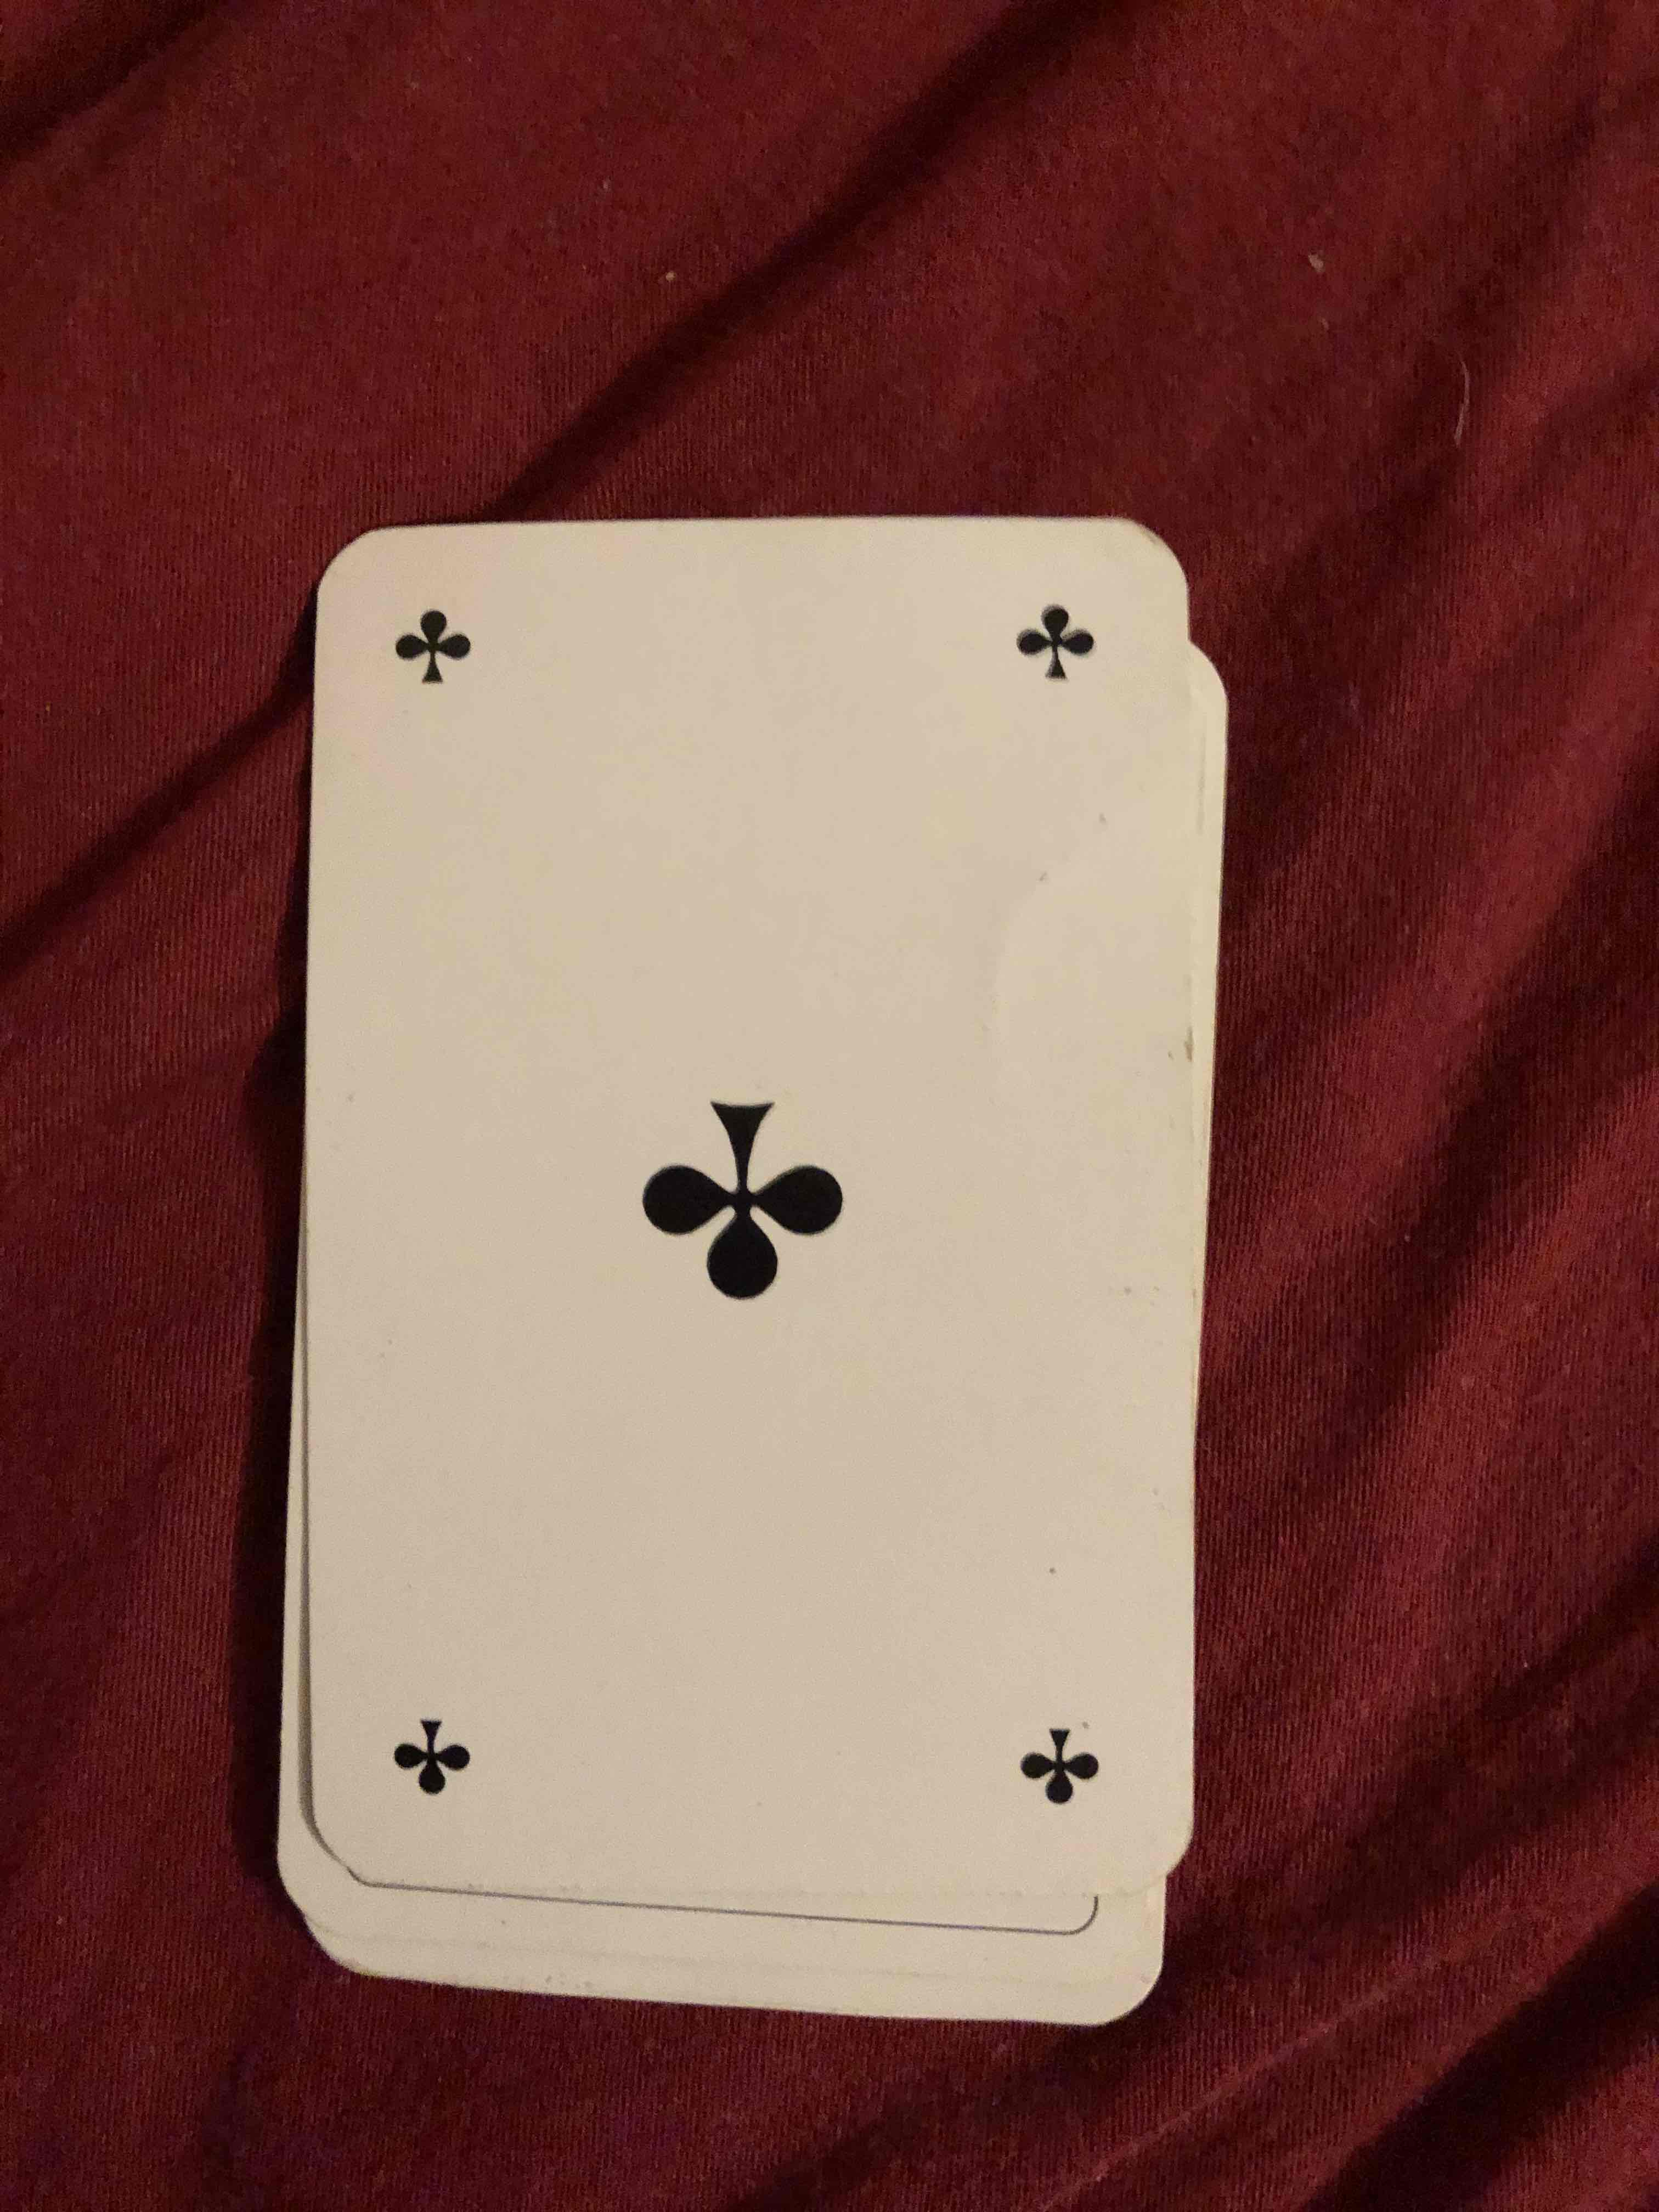clubsAce: (335, 512, 1222, 1893)
